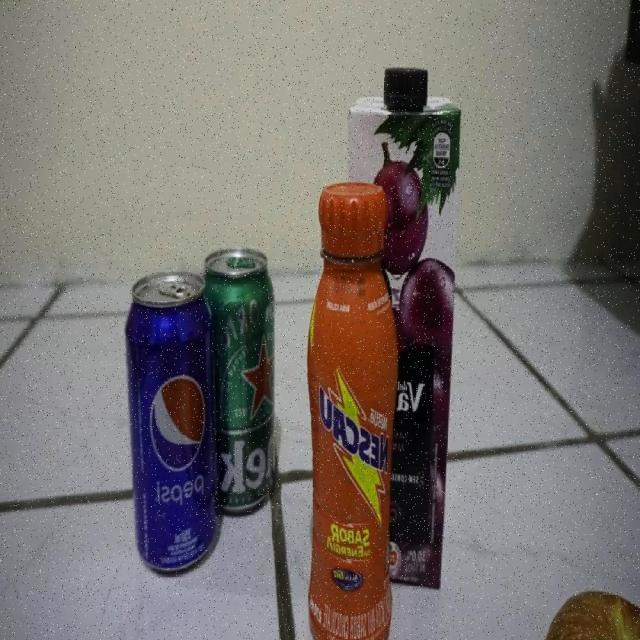Apple: (549, 585, 640, 640)
BeerCan: (214, 247, 282, 515)
ChocolateMilk: (306, 178, 390, 640)
SodaCan: (122, 275, 213, 569)
